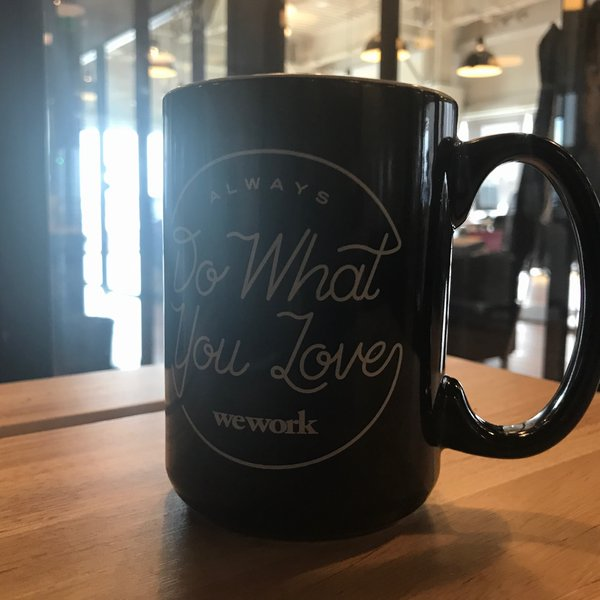wework: (208, 406, 323, 438)
